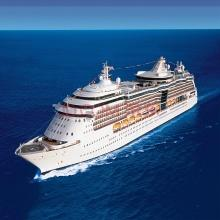youlun: (10, 45, 196, 175)
